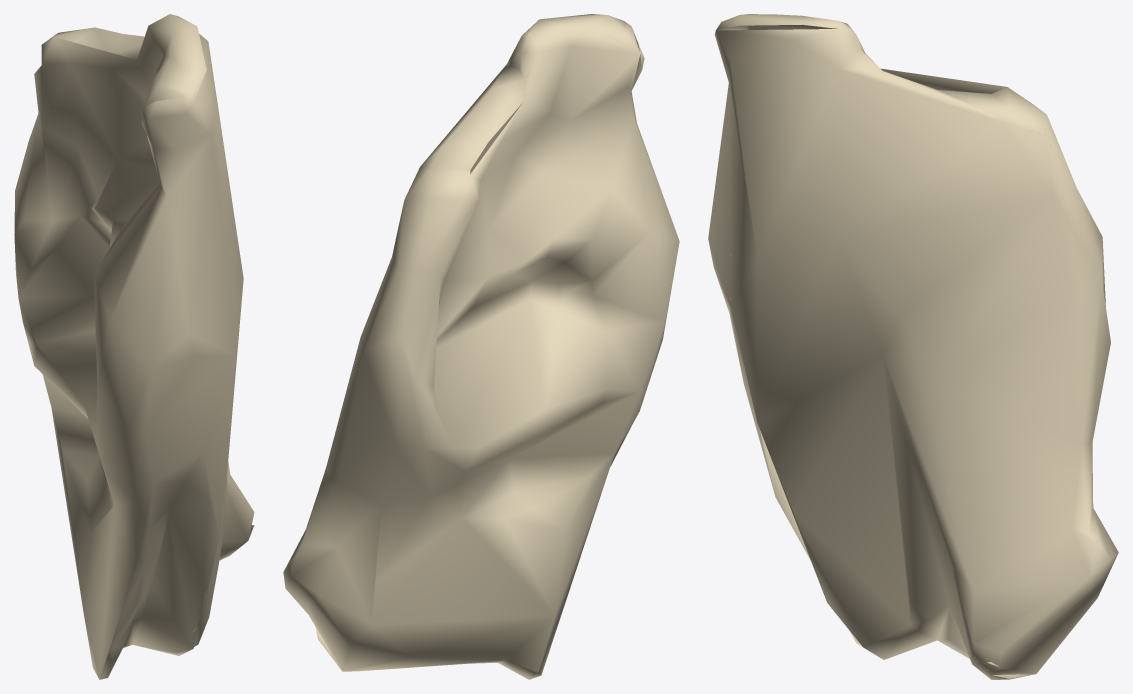
The model's file is esqueleto-lacrimal-bone-l.glb.
3 renders of one model, left to right at view 1: azimuth 30°, elevation 25°; view 2: azimuth 150°, elevation 25°; view 3: azimuth 270°, elevation 25°, orthographic. The views are drawn at different scales.
Visible parts, largest first — view 1: Lacrimal bone.l; view 2: Lacrimal bone.l; view 3: Lacrimal bone.l.
Boxes of the visible parts, bbox=[...] form: Lacrimal bone.l: bbox=[14, 14, 254, 679]; Lacrimal bone.l: bbox=[283, 14, 679, 679]; Lacrimal bone.l: bbox=[708, 14, 1118, 679].
Bounding box in the file's own units: 0.0107 × 0.0251 × 0.0147.
